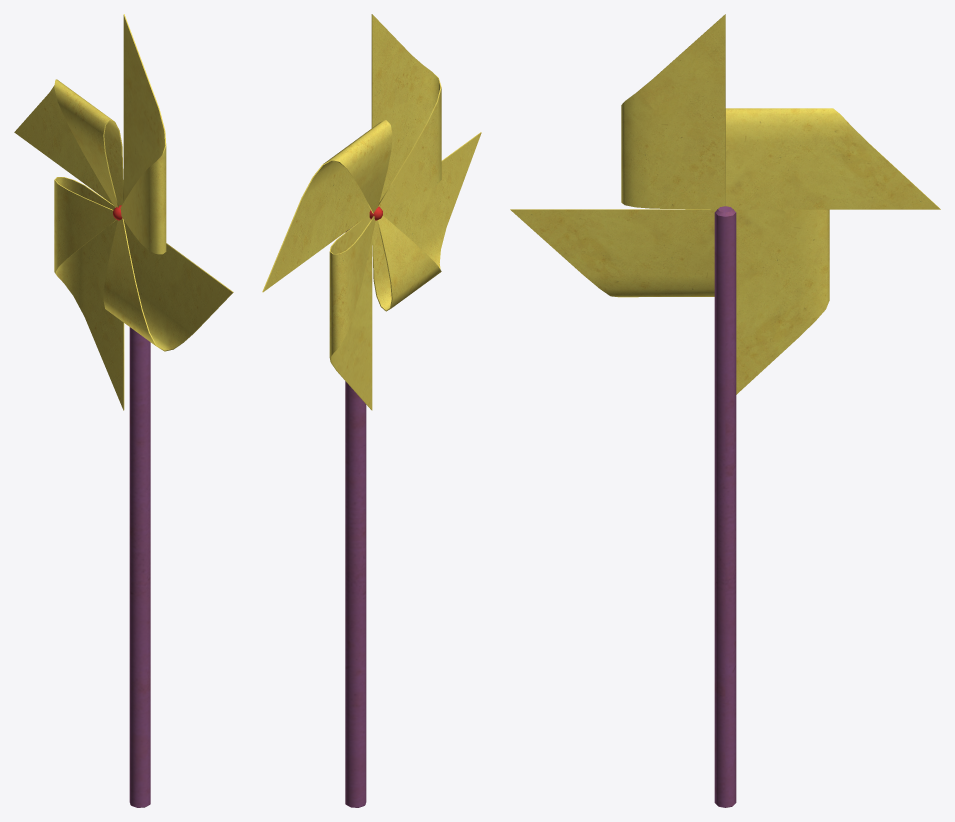
The model's file is Pinwheel_01.fbx.
3 renders of one model, left to right at view 1: azimuth 30°, elevation 25°; view 2: azimuth 150°, elevation 25°; view 3: azimuth 270°, elevation 25°, orthographic.
Parts seen in each view (by area): view 1: Pinwheel_Blades.001, Pinwheel_Handle; view 2: Pinwheel_Blades.001, Pinwheel_Handle; view 3: Pinwheel_Blades.001, Pinwheel_Handle.
Part boxes in pixels (bbox=[...]): Pinwheel_Blades.001: bbox=[14, 14, 233, 410]; Pinwheel_Handle: bbox=[129, 327, 150, 807]; Pinwheel_Blades.001: bbox=[262, 14, 481, 410]; Pinwheel_Handle: bbox=[345, 229, 366, 807]; Pinwheel_Blades.001: bbox=[510, 14, 940, 394]; Pinwheel_Handle: bbox=[714, 206, 736, 807].
Size of the model in its own units: 0.2442 by 2 by 4.01.
